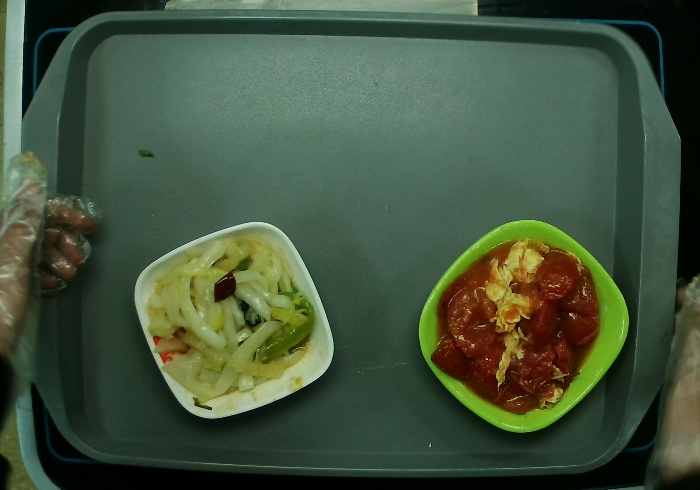SHKJ-Bai_Se_Xiao_Fang_Die: (133, 221, 335, 421)
SHKJ-Lv_Se_Cai_Die: (418, 220, 631, 435)
